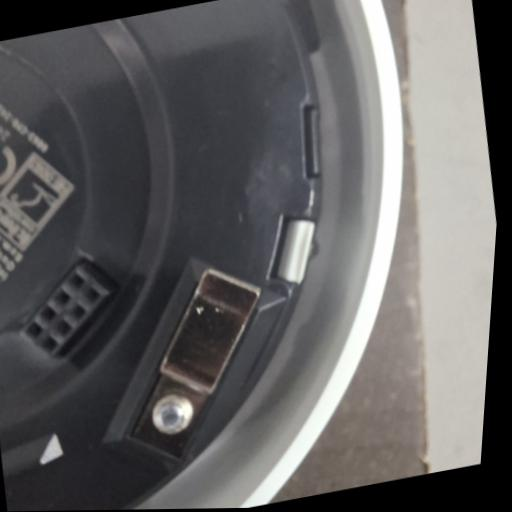yaysiz: (101, 256, 290, 467)
